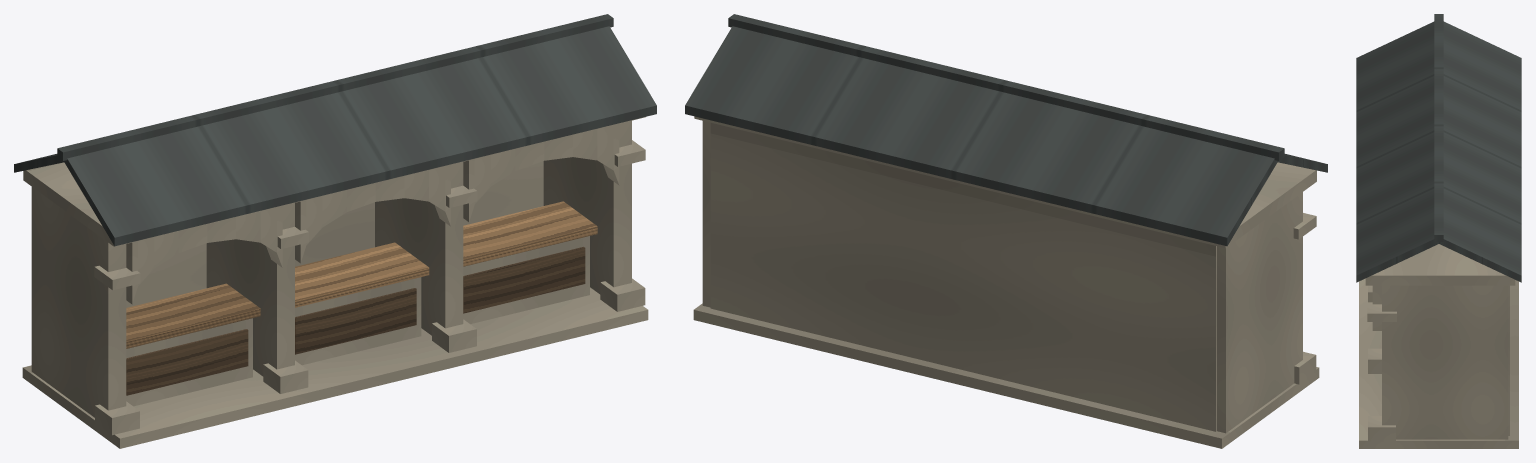
3 renders of one model, left to right at view 1: azimuth 30°, elevation 25°; view 2: azimuth 150°, elevation 25°; view 3: azimuth 270°, elevation 25°, orthographic. The views are drawn at different scales.
Visible parts, largest first — view 1: male; view 2: male; view 3: male.
Boxes of the visible parts, bbox=[...] form: male: bbox=[14, 14, 656, 448]; male: bbox=[685, 14, 1327, 448]; male: bbox=[1356, 14, 1521, 448].
Size of the model in its own units: 4.99 by 2.3 by 1.58.
Materials: 1 (1 with a texture image).
